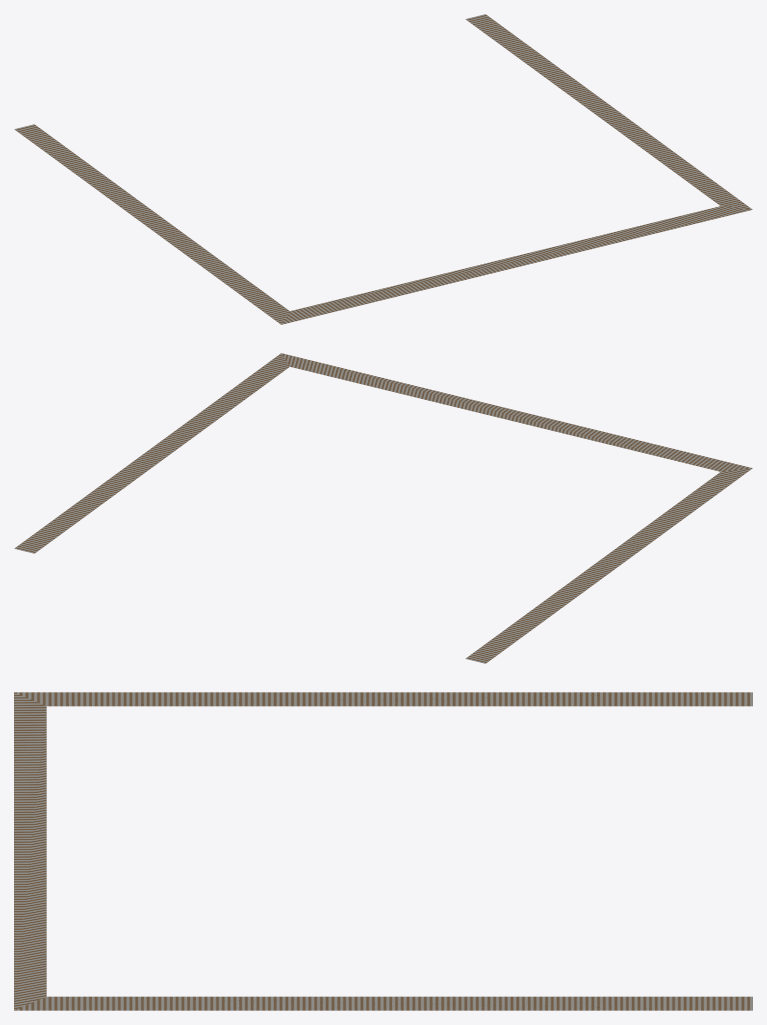
The model's file is kd_stage_135ded_0_19.glb.
3 views of the same model, one above another, from view 1: azimuth 30°, elevation 25°; view 2: azimuth 150°, elevation 25°; view 3: azimuth 270°, elevation 25° (orthographic). The views are drawn at different scales.
Visible parts, largest first — view 1: kd_stage_135ded_0_19; view 2: kd_stage_135ded_0_19; view 3: kd_stage_135ded_0_19.
Part boxes in pixels (bbox=[...]): kd_stage_135ded_0_19: bbox=[14, 14, 752, 324]; kd_stage_135ded_0_19: bbox=[14, 353, 752, 663]; kd_stage_135ded_0_19: bbox=[14, 692, 752, 1010].
Size of the model in its own units: 18.39 by 9.54e-07 by 18.05.
1 material, 1 textured.
